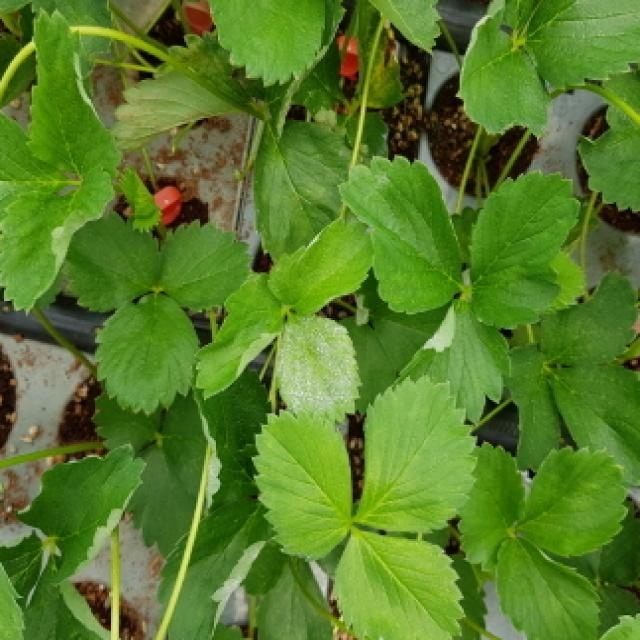Powdery Mildew Leaf: (391, 296, 513, 428), (155, 511, 275, 640), (193, 272, 288, 401), (192, 369, 272, 512), (265, 216, 375, 316), (274, 313, 363, 425)
